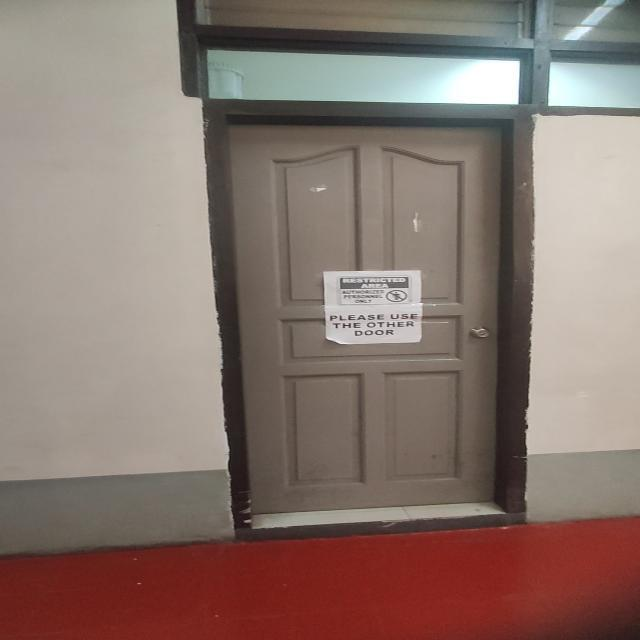door: (209, 101, 536, 542)
